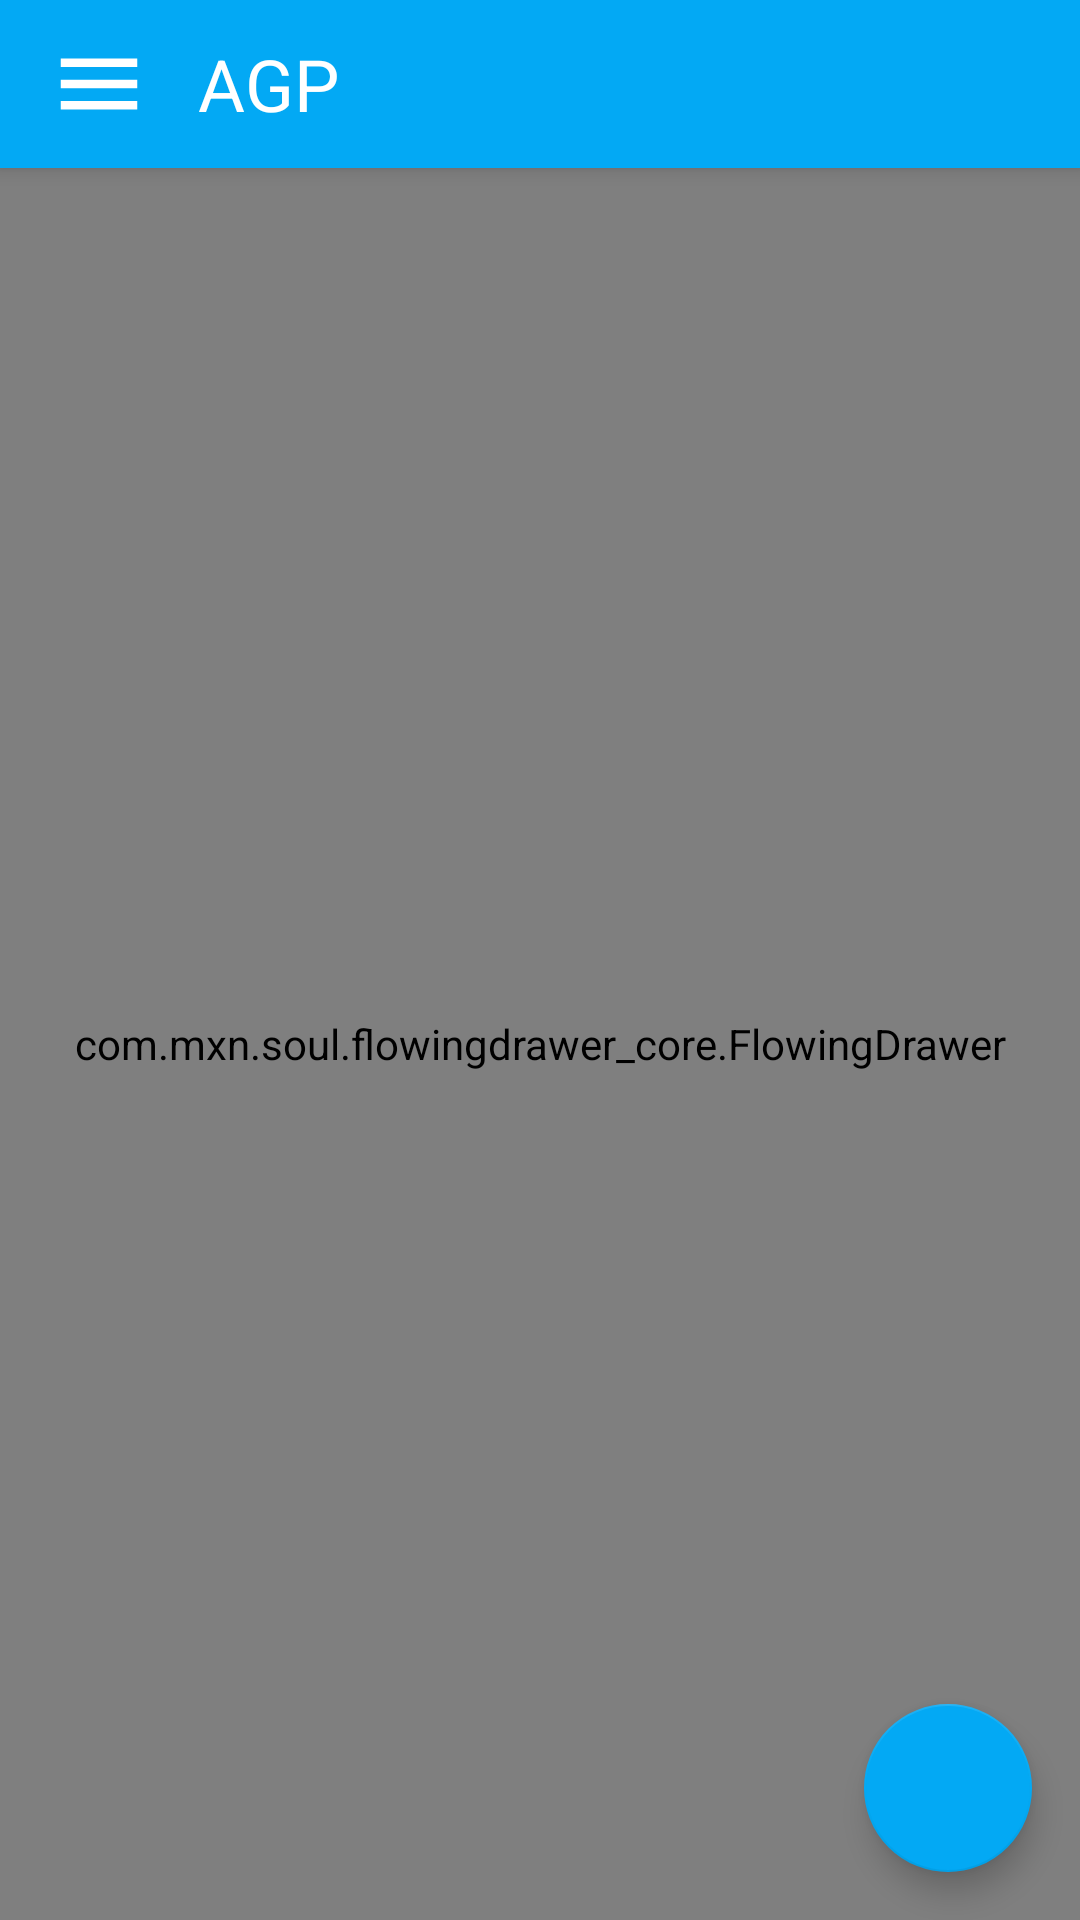

Icons on this 1080 x 1920 Android screen, each with its box as (x1, y1, x2, y2):
menu: (60, 58, 138, 110)
